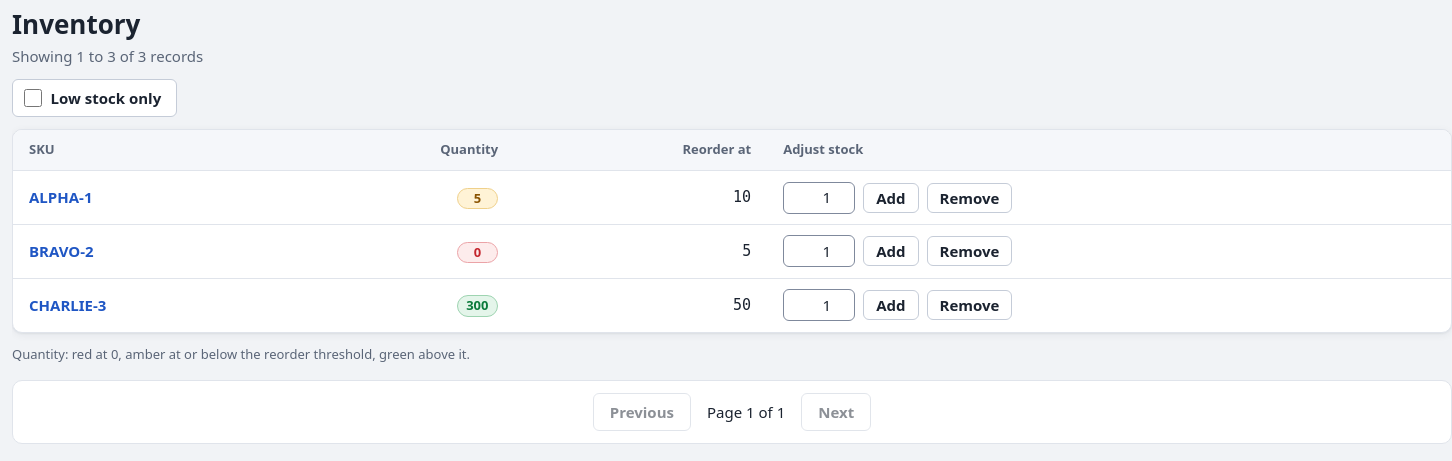
Test: Inventory page › Add stock › sends the admin token with the change
Check: the button "ALPHA-1" is shown, box [29,186,92,209]
Click the button "Add" next to "10": (891, 198) [863,183,918,213]
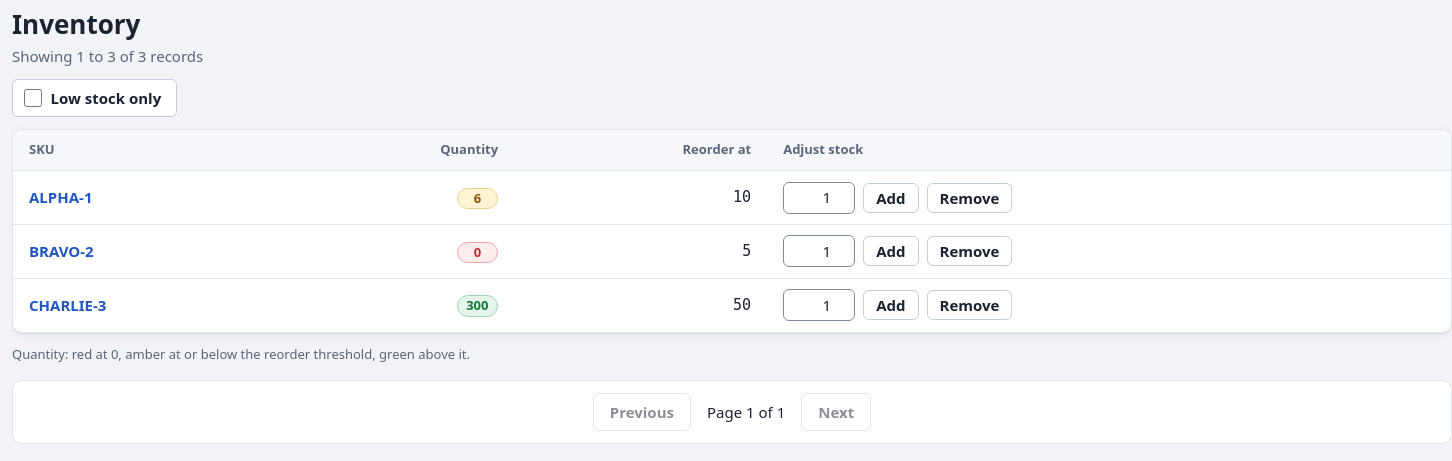
Check: the text "6" is shown, box [456,188,498,209]
